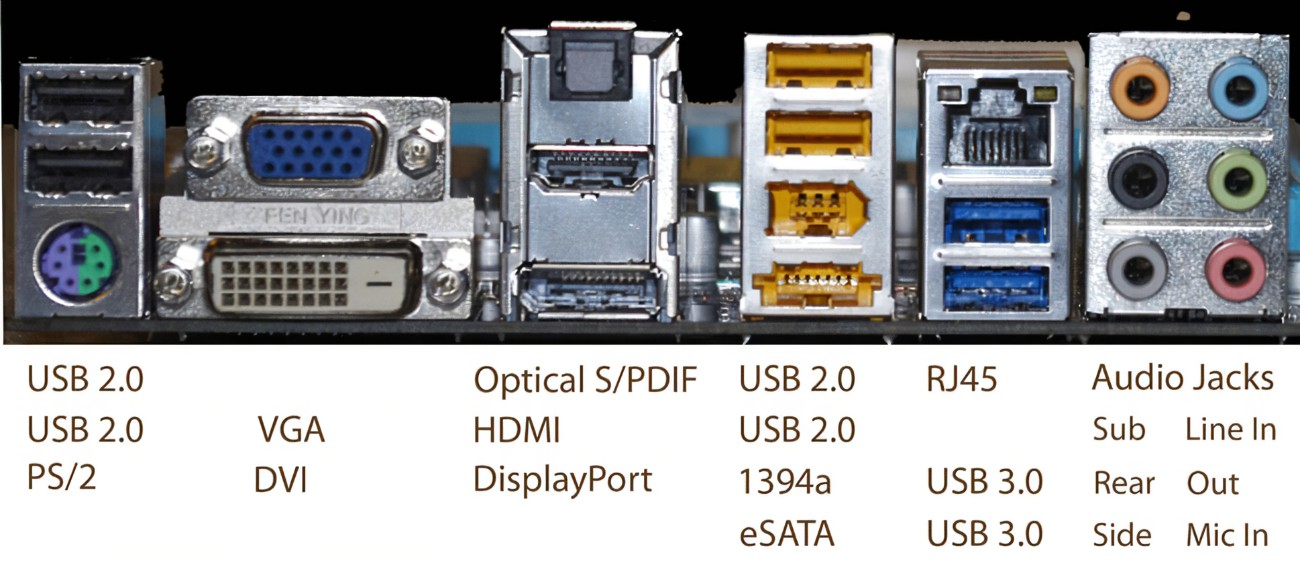Audio: (1202, 232, 1274, 306), (1202, 53, 1274, 125), (1203, 143, 1269, 217), (1104, 238, 1171, 306), (1110, 50, 1173, 122), (1108, 143, 1170, 211)
DVI: (204, 234, 426, 321)
Ethernet: (931, 76, 1070, 186)
HDMI: (521, 140, 655, 200)
USB: (20, 54, 146, 128), (760, 37, 885, 96), (21, 142, 141, 201), (759, 109, 878, 168), (934, 198, 1061, 252), (932, 267, 1058, 318)
VGA: (233, 103, 388, 188)
